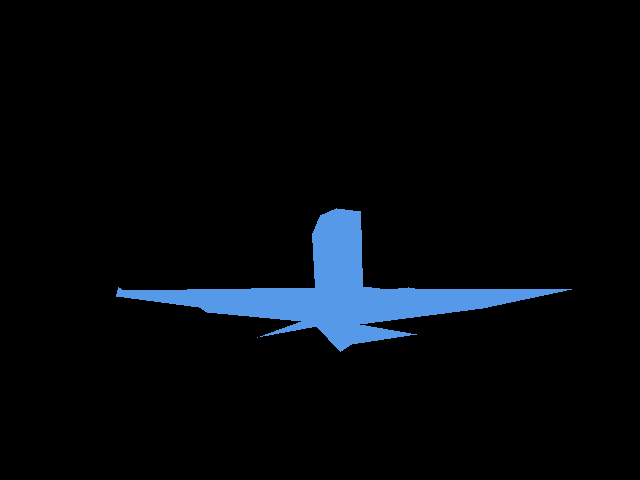Airplane: (116, 208, 571, 352)
